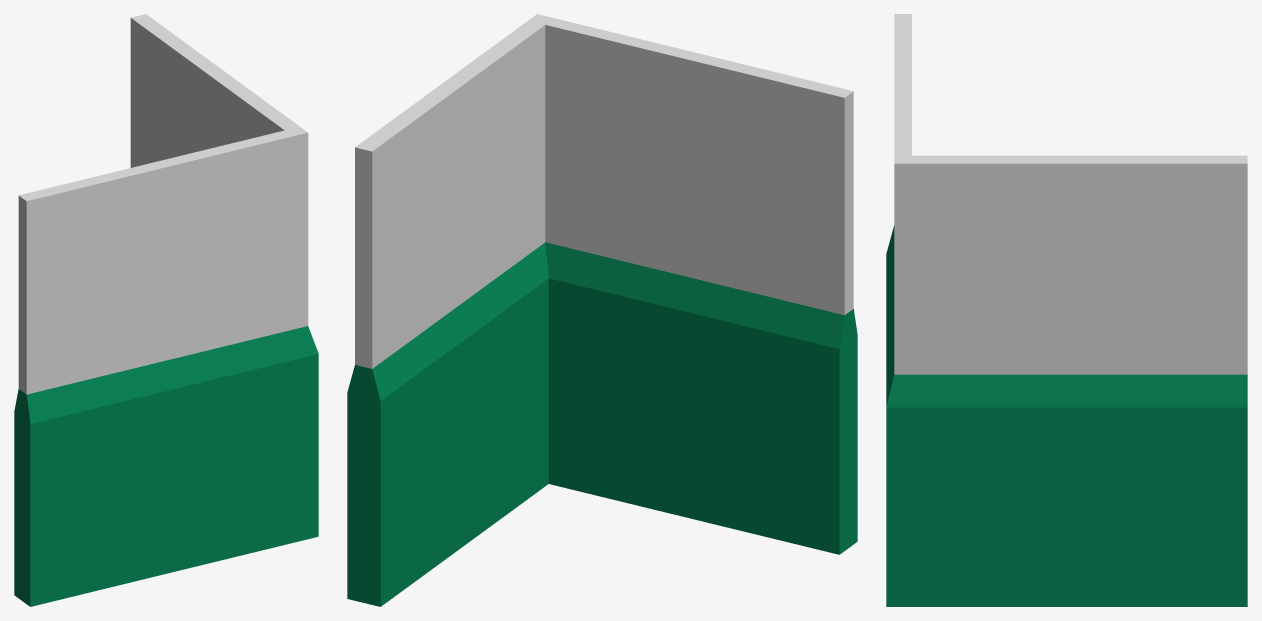
File: wall_4.fbx
The picture shows the model from 3 angles, left to right: view 1: azimuth 30°, elevation 25°; view 2: azimuth 150°, elevation 25°; view 3: azimuth 270°, elevation 25°; orthographic projection. The views are drawn at different scales.
Visible parts, largest first — view 1: WALL_1.003; view 2: WALL_1.003; view 3: WALL_1.003.
Boxes of the visible parts, <box> form: WALL_1.003: <box>14,14,318,606</box>; WALL_1.003: <box>347,14,857,606</box>; WALL_1.003: <box>886,14,1247,606</box>.
Bounding box in the file's own units: 3.39 × 4.53 × 3.38.
